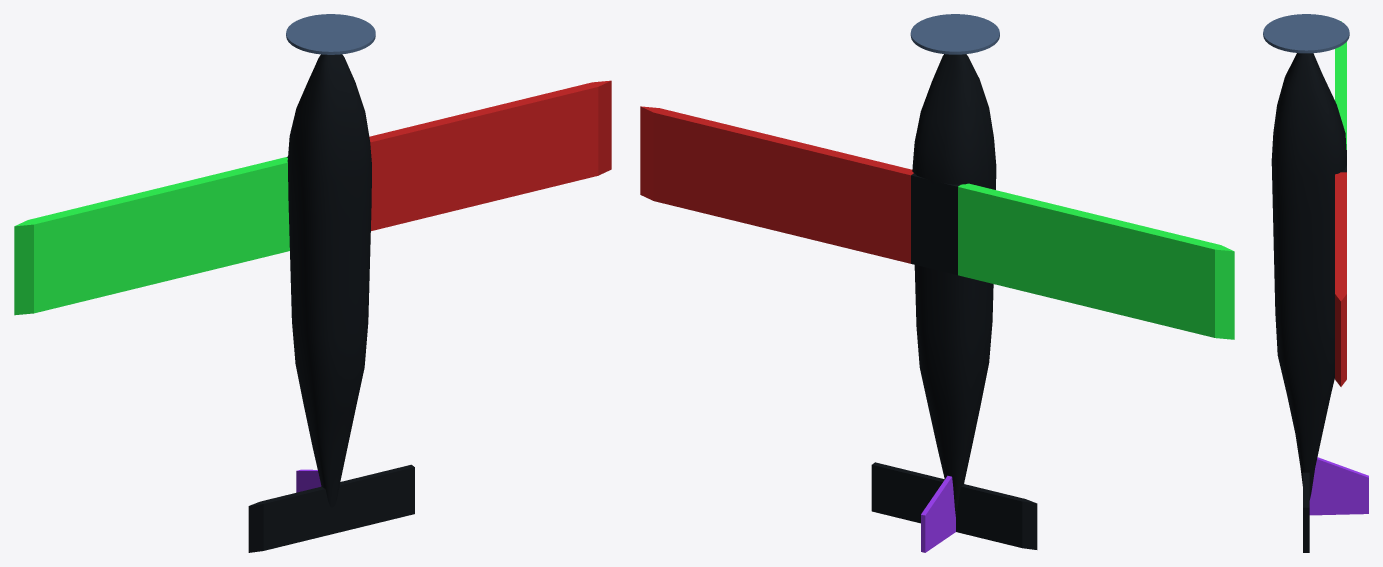
File: px4_fixed_wing.obj
3 renders of one model, left to right at view 1: azimuth 30°, elevation 25°; view 2: azimuth 150°, elevation 25°; view 3: azimuth 270°, elevation 25°, orthographic. The views are drawn at different scales.
Parts seen in each view (by area): view 1: body_dark_0, green_metal_1, red_metal_2, prop_grey_5; view 2: body_dark_0, green_metal_1, red_metal_2, prop_grey_5, purple_metal_3; view 3: body_dark_0, purple_metal_3, prop_grey_5, red_metal_2, green_metal_1.
Part boxes in pixels (left/top/right/bottom): body_dark_0: left=248, top=54, right=414, bottom=552; green_metal_1: left=14, top=157, right=289, bottom=315; red_metal_2: left=369, top=80, right=611, bottom=230; prop_grey_5: left=286, top=14, right=375, bottom=54; body_dark_0: left=871, top=54, right=1037, bottom=549; green_metal_1: left=958, top=183, right=1234, bottom=339; red_metal_2: left=640, top=106, right=913, bottom=263; prop_grey_5: left=910, top=14, right=999, bottom=54; purple_metal_3: left=921, top=475, right=955, bottom=552; body_dark_0: left=1271, top=53, right=1346, bottom=552; purple_metal_3: left=1309, top=457, right=1368, bottom=515; prop_grey_5: left=1263, top=14, right=1349, bottom=53; red_metal_2: left=1335, top=172, right=1346, bottom=386; green_metal_1: left=1335, top=21, right=1346, bottom=149.
Bounding box in the file's own units: 1.23 × 0.9842 × 0.1955.
